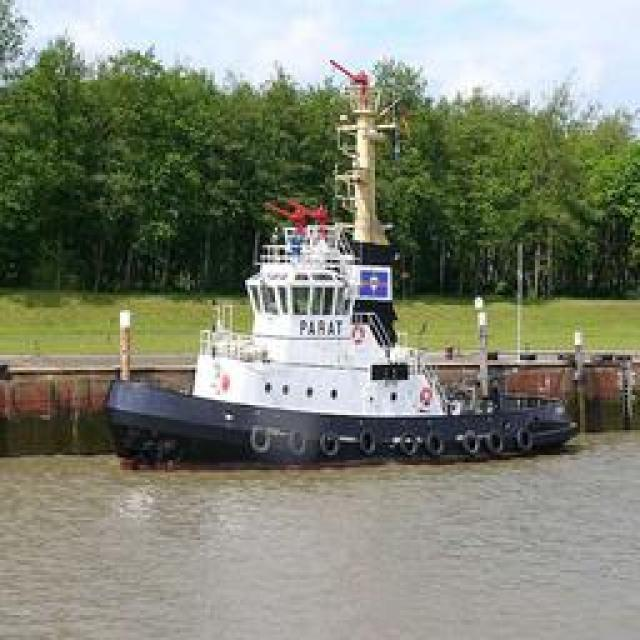ship2: (105, 62, 577, 470)
